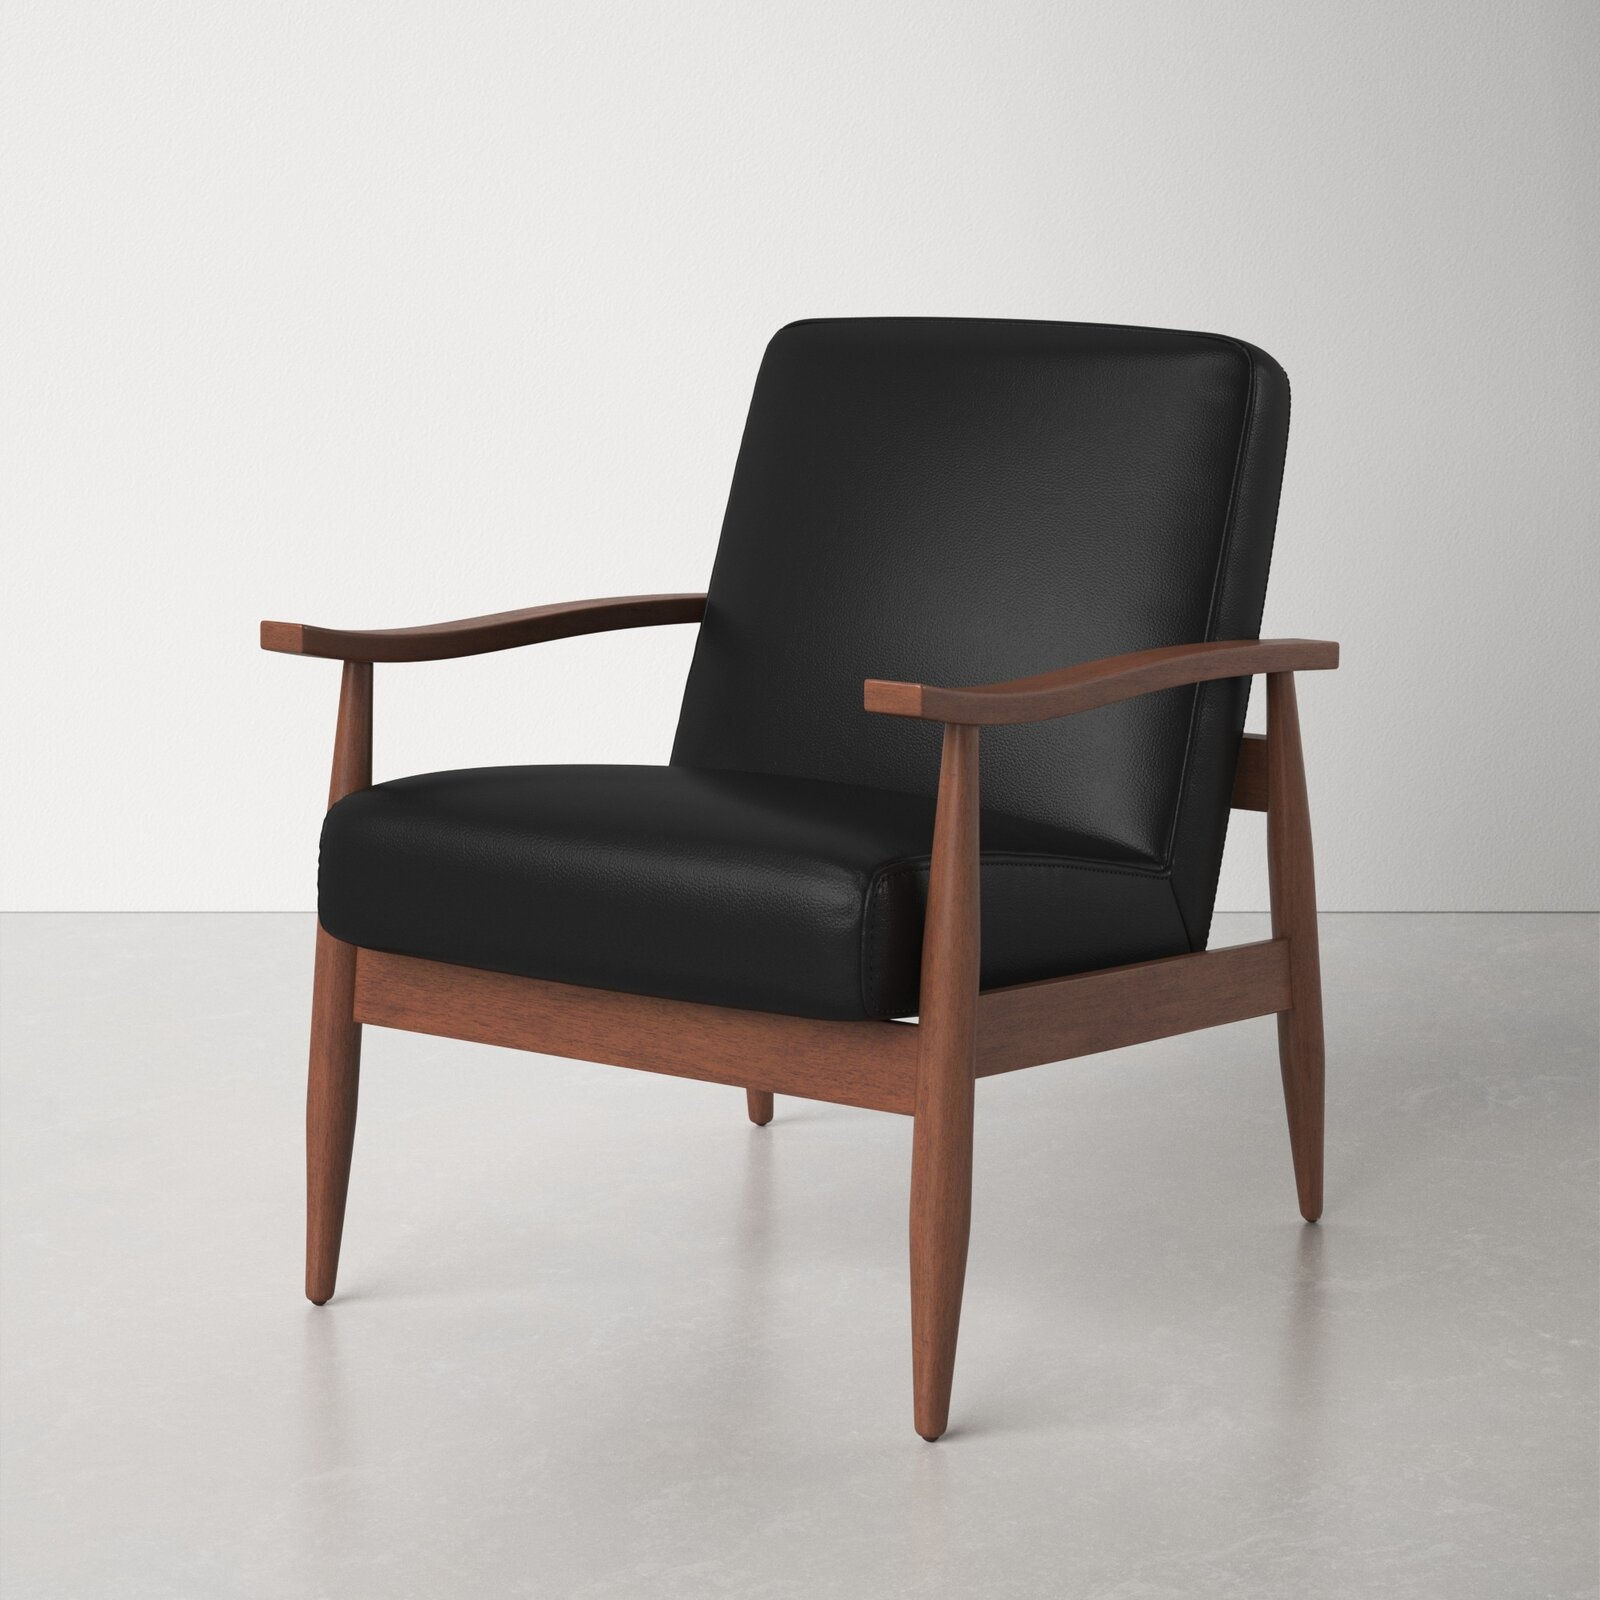obstacle: (262, 318, 1336, 1437)
